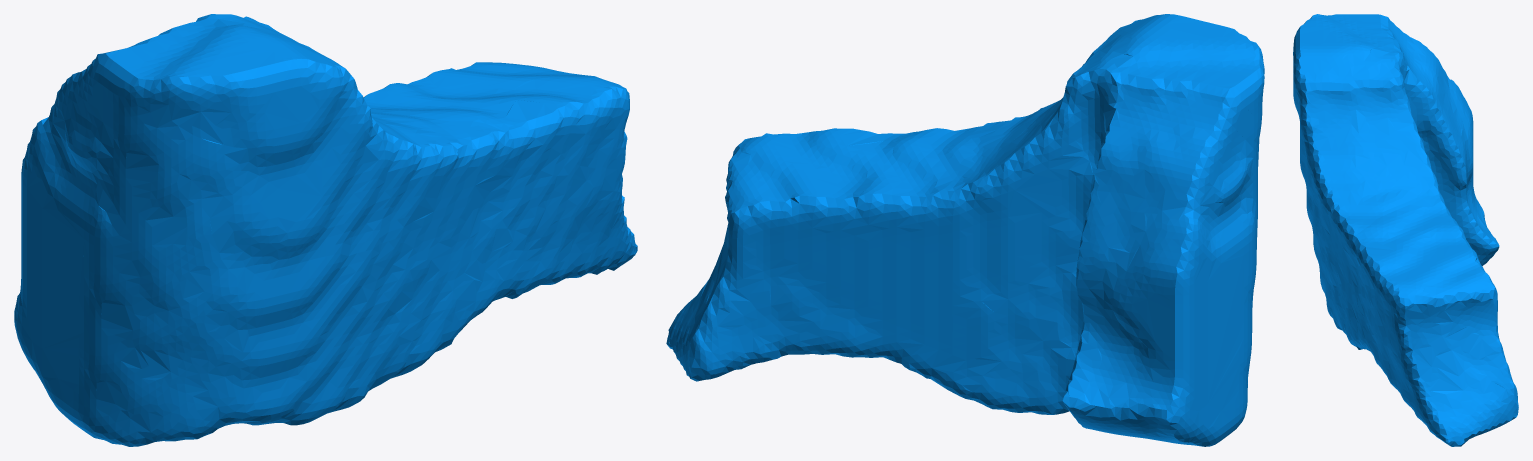
The model's file is Model_149_RH__Visual_area_6_(dorsomedial_area)_(V6).obj.
3 renders of one model, left to right at view 1: azimuth 30°, elevation 25°; view 2: azimuth 150°, elevation 25°; view 3: azimuth 270°, elevation 25°, orthographic. The views are drawn at different scales.
Bounding box in the file's own units: 6.78 × 4.31 × 3.39.
